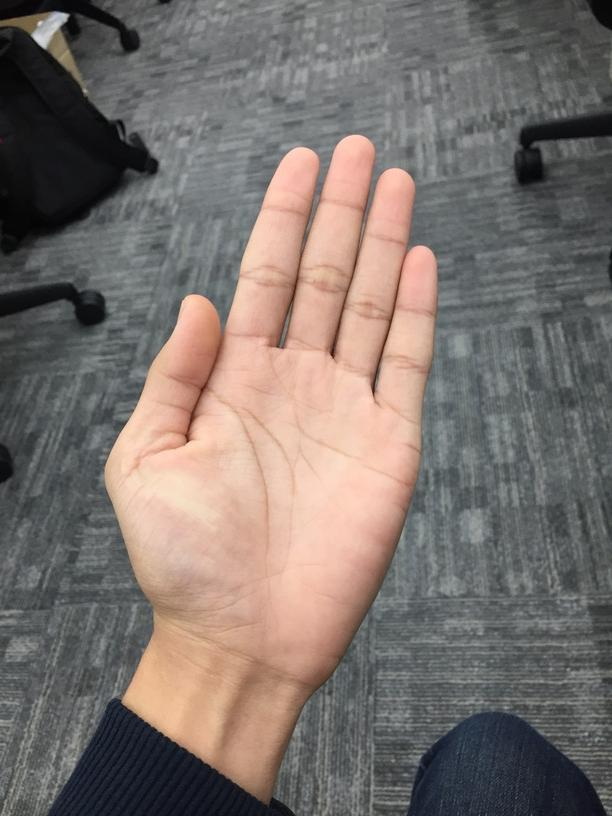hand: (102, 130, 440, 690)
